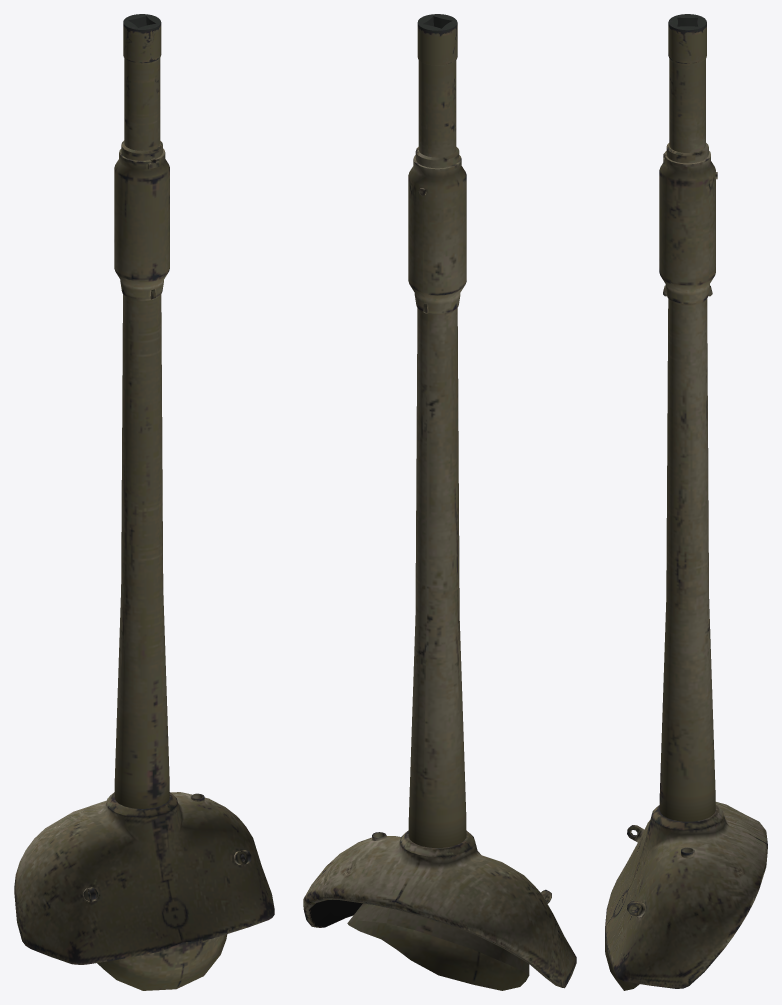
File: Gun_03.glb
3 views of the same model, side by side, from view 1: azimuth 30°, elevation 25°; view 2: azimuth 150°, elevation 25°; view 3: azimuth 270°, elevation 25° (orthographic). The views are drawn at different scales.
Parts seen in each view (by area): view 1: set_0_group_0; view 2: set_0_group_0; view 3: set_0_group_0.
Boxes of the visible parts, x1=… form: set_0_group_0: x1=14, y1=14, x2=274, y2=990; set_0_group_0: x1=303, y1=14, x2=576, y2=990; set_0_group_0: x1=605, y1=14, x2=767, y2=990.
Bounding box in the file's own units: 1.51 × 5.68 × 0.8757.
1 material, 1 textured.
